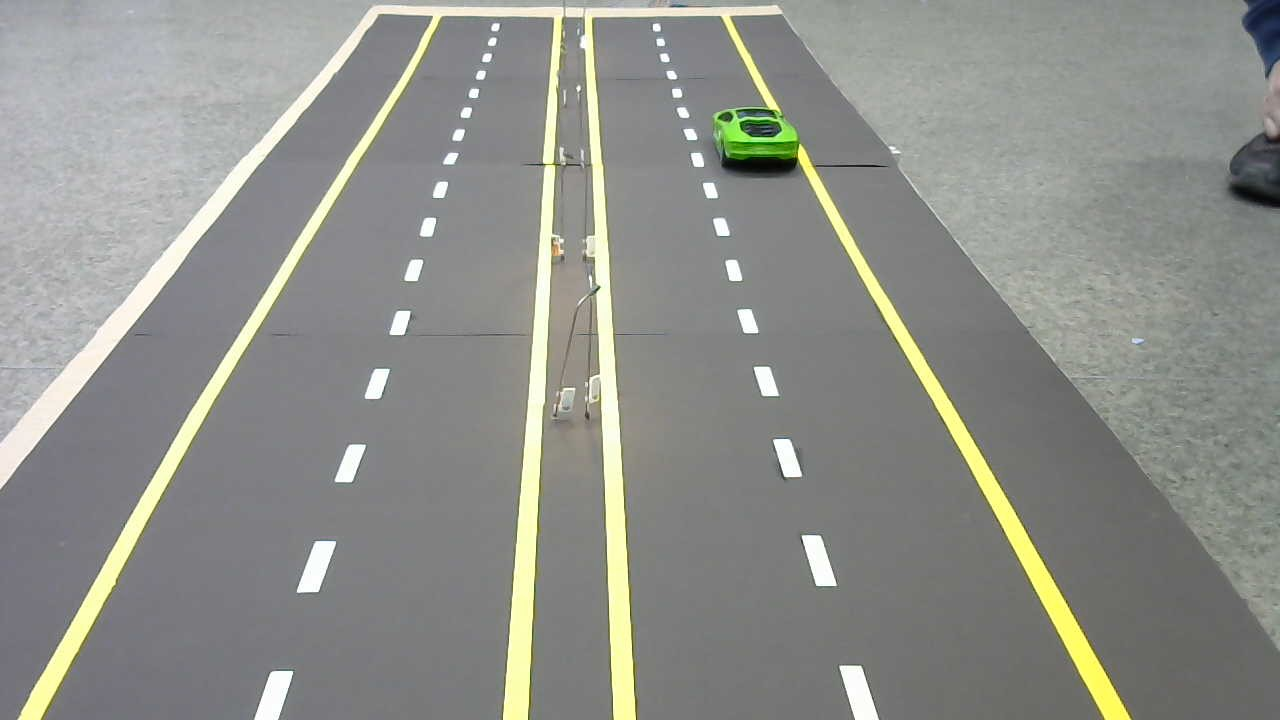back_car: (706, 102, 807, 177)
